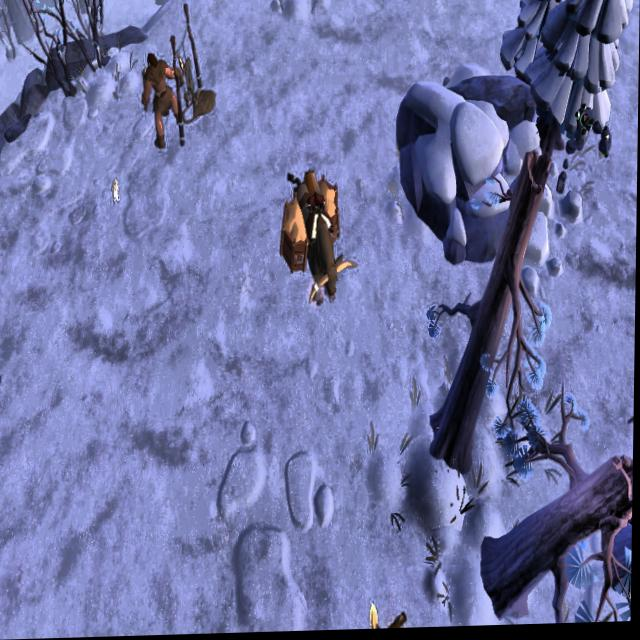enemy_factionKeeper: (141, 55, 188, 146)
